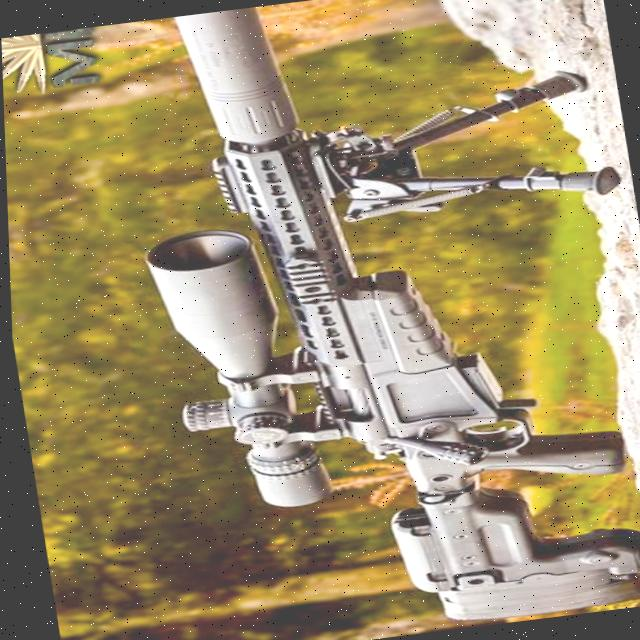firearm: (98, 0, 640, 640)
